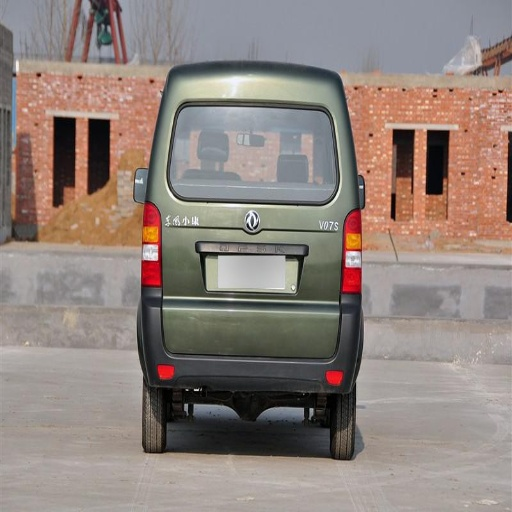back_bumper: (140, 295, 362, 393)
tailgate: (170, 172, 336, 205)
trunk: (154, 190, 348, 357)
